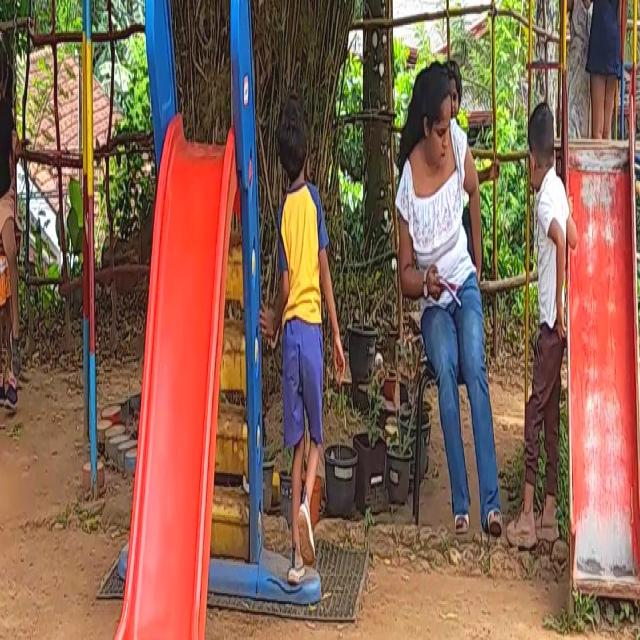adult: (392, 48, 488, 545)
child: (268, 74, 331, 589), (513, 98, 573, 552), (0, 11, 30, 365), (596, 0, 637, 136), (565, 0, 604, 142)
